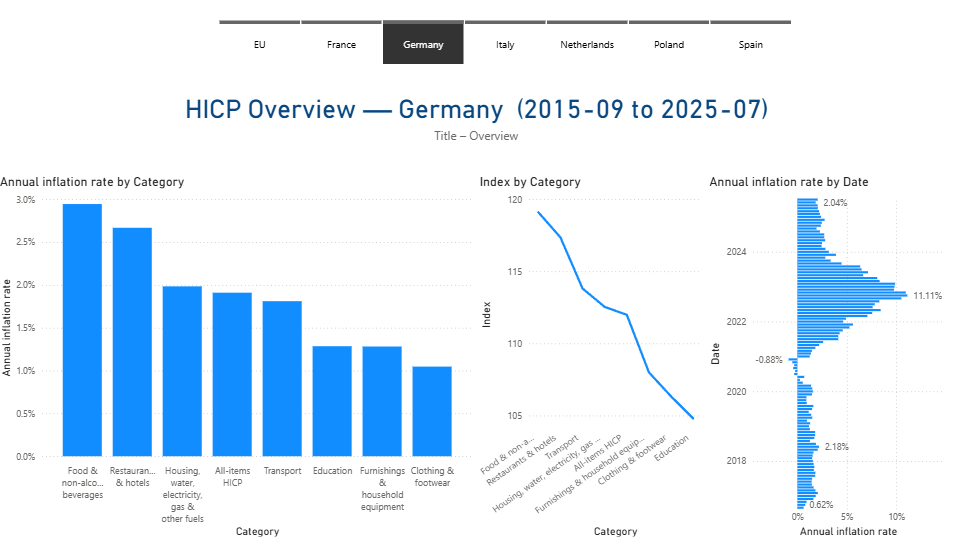

What the dashboard file says about the page in this screenshot:
{"tool":"powerbi","page":{"name":"Page 3","canvas":[1280,720],"ordinal":2},"visuals":[{"type":"lineChart","fields":{"Category":["DimCOICOP.CoicopLabel"],"Y":["_Measures.Index"]},"box":[640,232,306,488],"z":0},{"type":"columnChart","fields":{"Category":["DimCOICOP.CoicopLabel"],"Y":["_Measures.YoY %"]},"box":[0,232,640,488],"z":1000},{"type":"slicer","fields":{"Values":["DimGeo.Country"]},"box":[272,20,812,72],"z":2000},{"type":"card","fields":{"Values":["_Measures.Title – Overview"]},"box":[0,92,1280,120],"z":3000},{"type":"clusteredBarChart","fields":{"Category":["DimDate.Date"],"Y":["_Measures.YoY %"]},"box":[946,232,334,488],"z":3001}]}

Visuals, with their boxes in screenshot pixels (x1, y1, x2, y2), scaled from the page's 1280x720 canvas onto the 954x537 screenshot:
lineChart - DimCOICOP.CoicopLabel x _Measures.Index: pyautogui.locateOnScreen(477, 173, 705, 536)
columnChart - DimCOICOP.CoicopLabel x _Measures.YoY %: pyautogui.locateOnScreen(0, 173, 477, 536)
slicer - DimGeo.Country: pyautogui.locateOnScreen(203, 15, 808, 69)
card - _Measures.Title – Overview: pyautogui.locateOnScreen(0, 69, 953, 158)
clusteredBarChart - DimDate.Date x _Measures.YoY %: pyautogui.locateOnScreen(705, 173, 953, 536)
